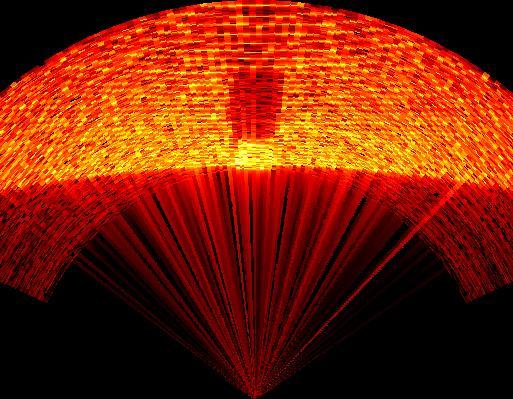box_crate: (223, 64, 291, 179)
